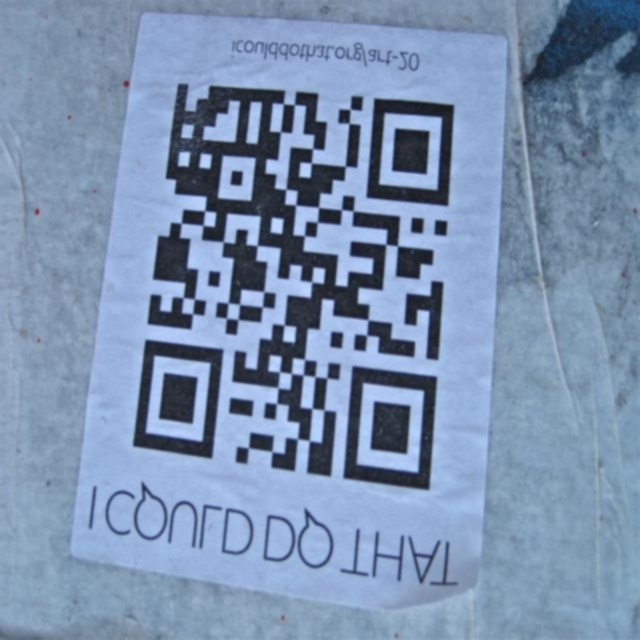qr-code: (133, 84, 454, 491)
